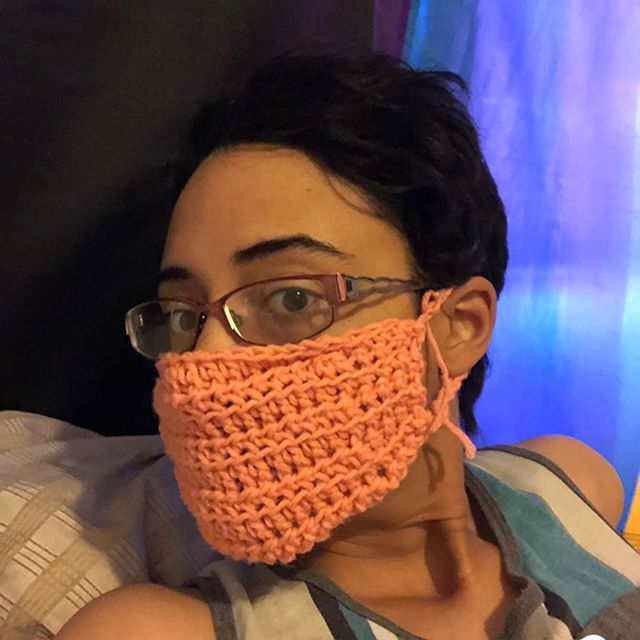homemade: (128, 296, 491, 560)
